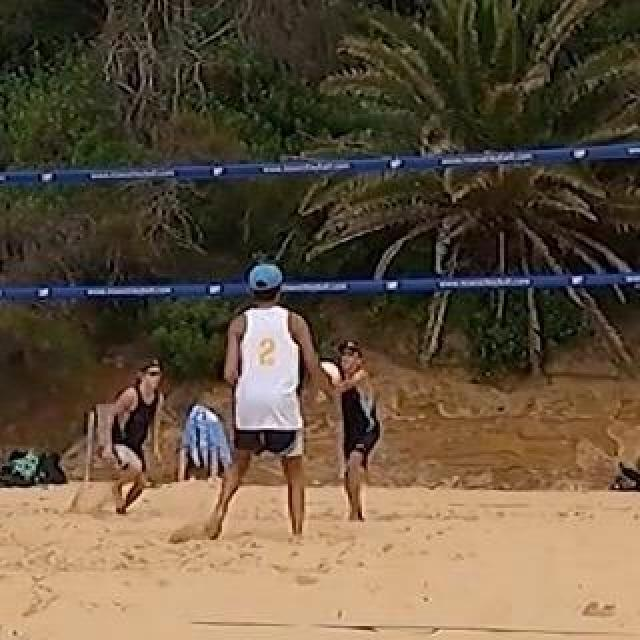volleyball: (309, 361, 341, 393)
